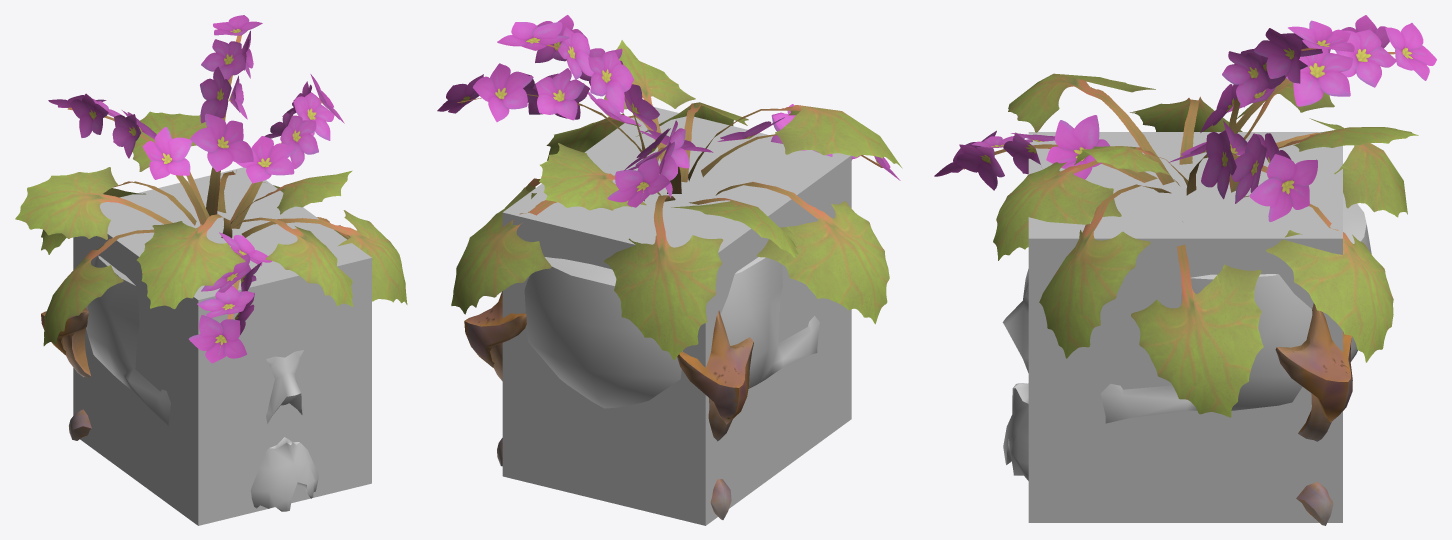
Rendered from SM_Potion_Props_FlowerPot_01.fbx.
The picture shows the model from 3 angles, left to right: view 1: azimuth 30°, elevation 25°; view 2: azimuth 150°, elevation 25°; view 3: azimuth 270°, elevation 25°; orthographic projection. The views are drawn at different scales.
Visible parts, largest first — view 1: SM_Potion_Props_FlowerPot_01_LOD0, SM_Potion_Props_FlowerPot_01; view 2: SM_Potion_Props_FlowerPot_01_LOD0, SM_Potion_Props_FlowerPot_01; view 3: SM_Potion_Props_FlowerPot_01_LOD0, SM_Potion_Props_FlowerPot_01.
Part boxes in pixels (left/top/right/bottom): SM_Potion_Props_FlowerPot_01_LOD0: left=15, top=15, right=407, bottom=511; SM_Potion_Props_FlowerPot_01: left=73, top=167, right=371, bottom=525; SM_Potion_Props_FlowerPot_01_LOD0: left=437, top=15, right=902, bottom=519; SM_Potion_Props_FlowerPot_01: left=502, top=107, right=851, bottom=525; SM_Potion_Props_FlowerPot_01_LOD0: left=934, top=15, right=1436, bottom=525; SM_Potion_Props_FlowerPot_01: left=1028, top=132, right=1342, bottom=522.
Size of what is drawn, in the model's own units: 33.45 by 36.76 by 35.13.
